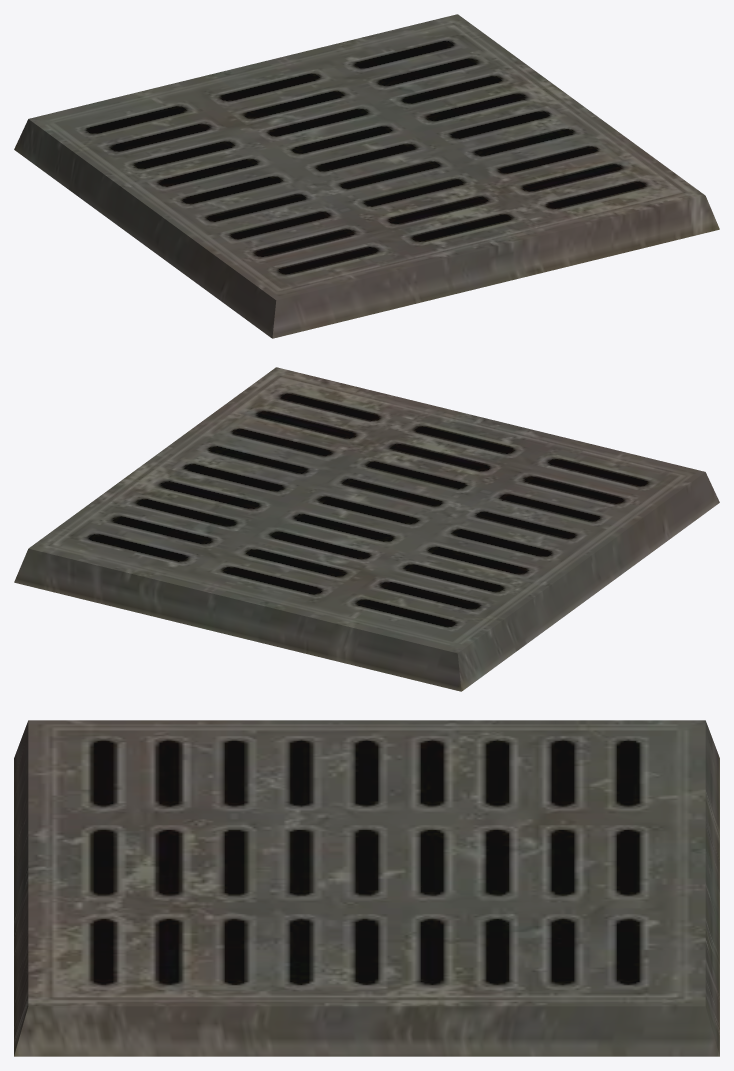
File: Prop_Drain.glb
3 views of the same model, one above another, from view 1: azimuth 30°, elevation 25°; view 2: azimuth 150°, elevation 25°; view 3: azimuth 270°, elevation 25° (orthographic). The views are drawn at different scales.
Parts seen in each view (by area): view 1: Prop_Drain; view 2: Prop_Drain; view 3: Prop_Drain.
Part boxes in pixels (box(x1,y1,x2,y2)): Prop_Drain: box(14, 14, 719, 338); Prop_Drain: box(14, 367, 719, 691); Prop_Drain: box(14, 720, 719, 1056).
Size of the model in its own units: 0.5852 by 0.0404 by 0.5852.
Materials: 1 (1 with a texture image).
